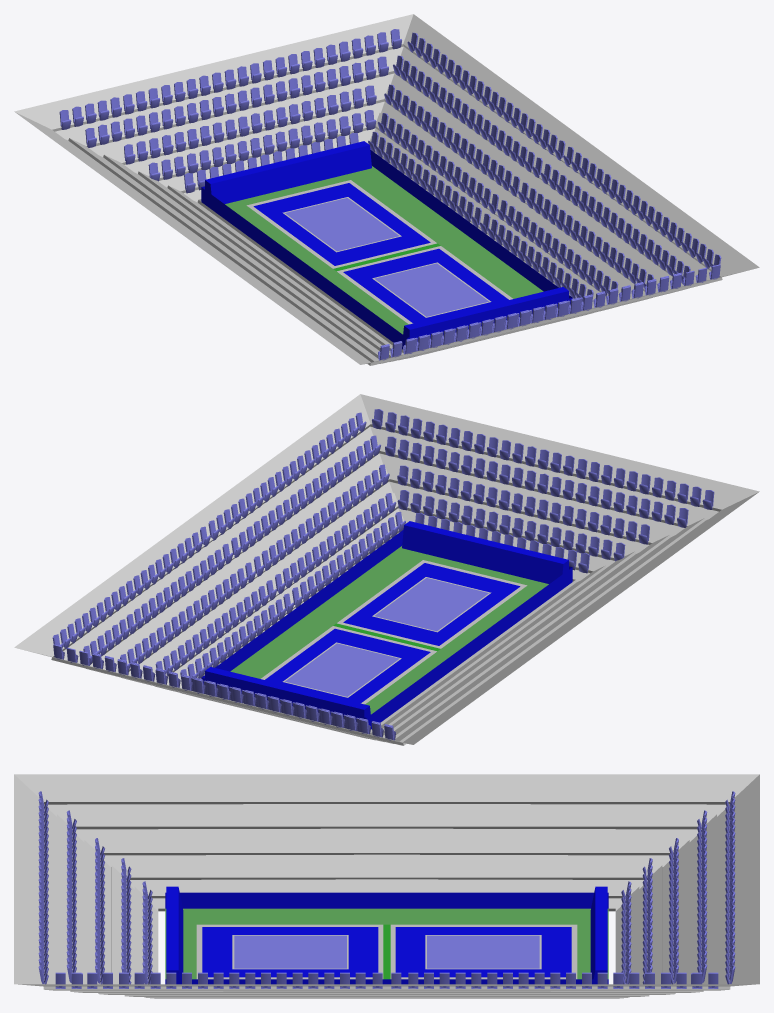
File: Arena_02.fbx
3 renders of one model, top to bottom at view 1: azimuth 30°, elevation 25°; view 2: azimuth 150°, elevation 25°; view 3: azimuth 270°, elevation 25°, orthographic. The views are drawn at different scales.
Parts seen in each view (by area): view 1: Arena; view 2: Arena; view 3: Arena.
Boxes of the visible parts, box(x1,y1,x2,y2) form: Arena: box(14, 14, 759, 365); Arena: box(14, 394, 759, 745); Arena: box(14, 774, 759, 998).
Bounding box in the file's own units: 3146 × 539 × 4724.
